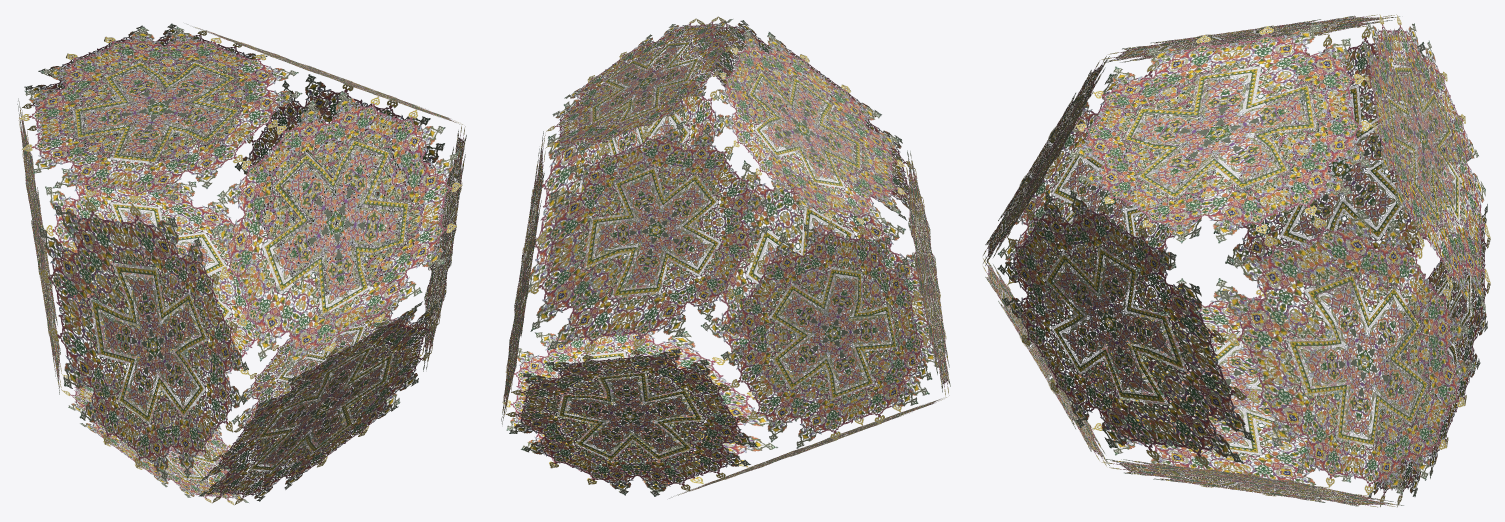
The model's file is Tetartoid2.obj.
3 views of the same model, side by side, from view 1: azimuth 30°, elevation 25°; view 2: azimuth 150°, elevation 25°; view 3: azimuth 270°, elevation 25° (orthographic). The views are drawn at different scales.
Bounding box in the file's own units: 22 × 22 × 22.
Materials: 1 (1 with a texture image).
